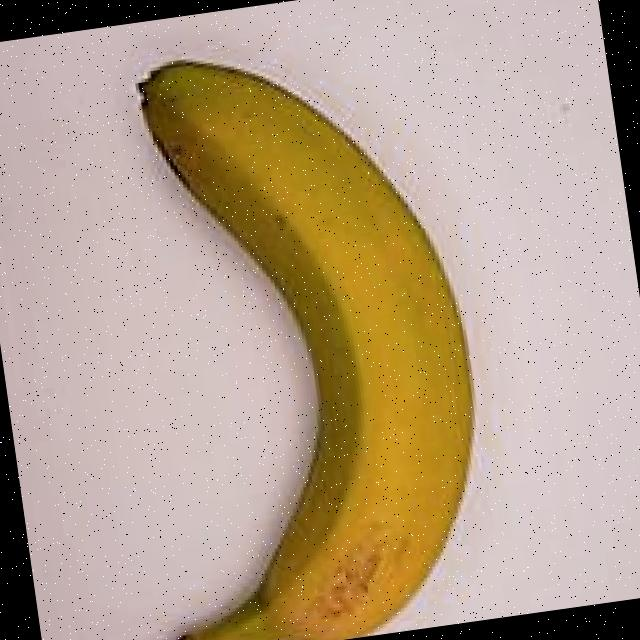Unripe: (0, 7, 546, 640)
